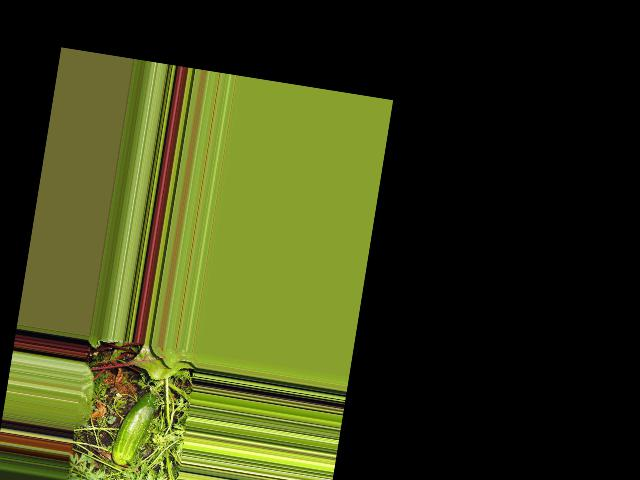cucumber: (110, 387, 159, 467)
